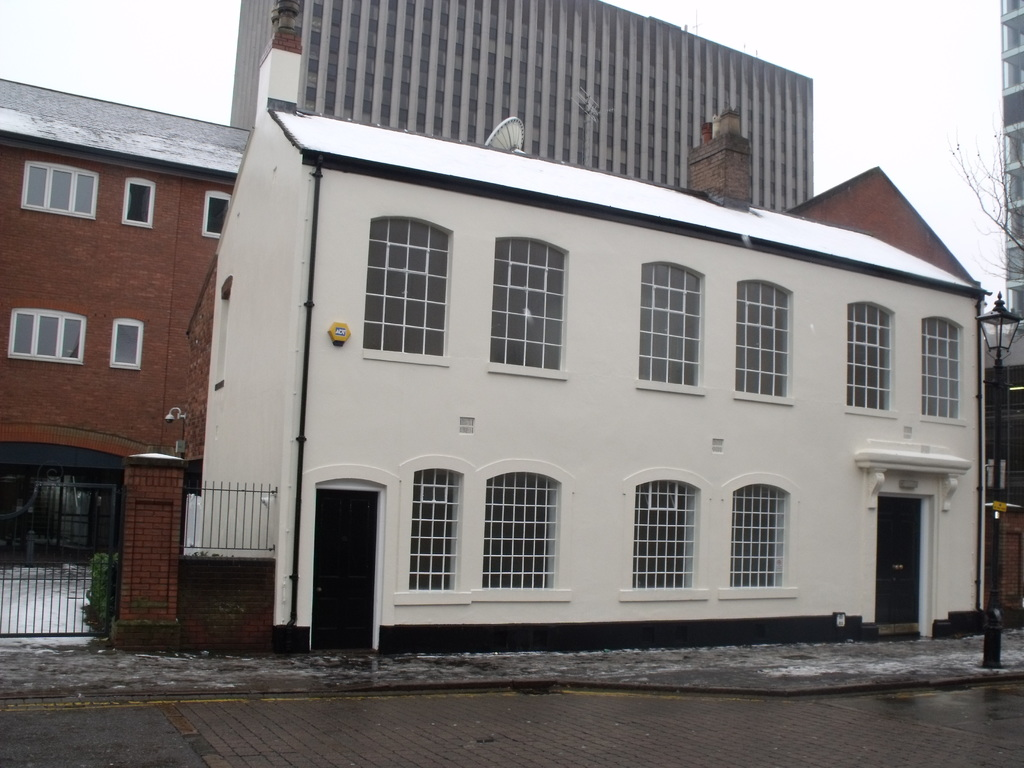door: (317, 489, 375, 656), (878, 496, 921, 639)
